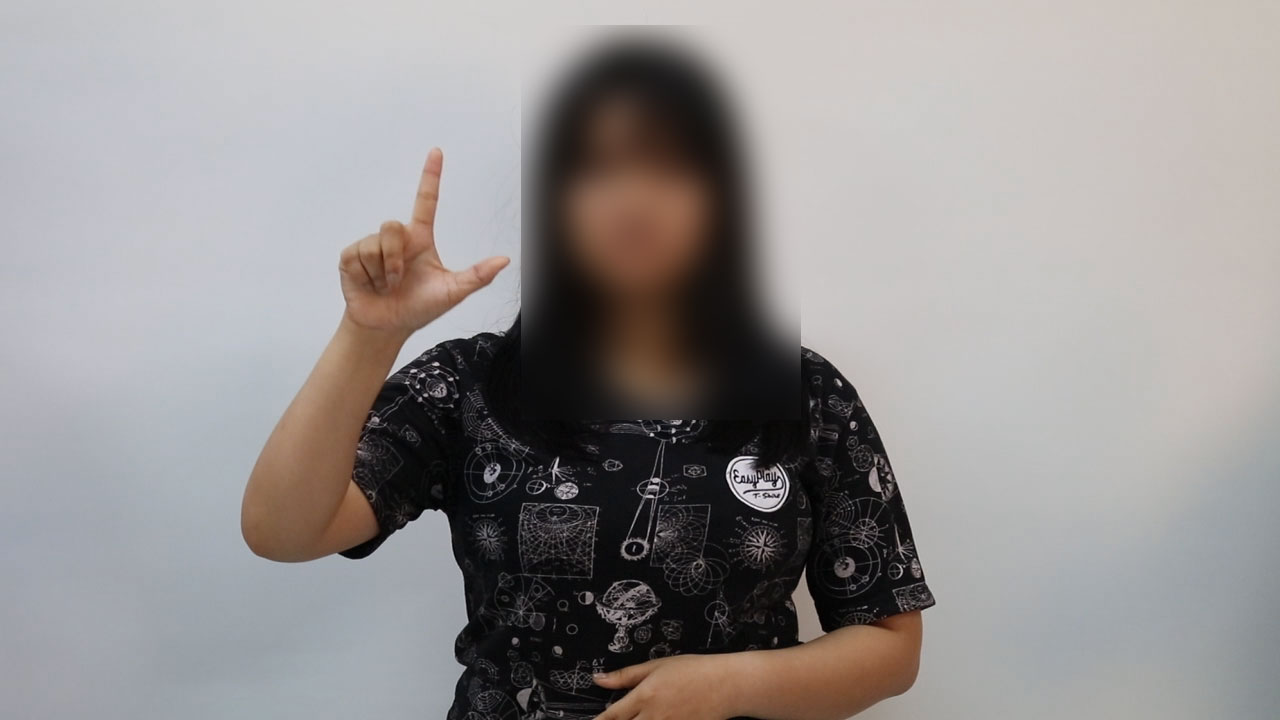lor: (328, 140, 521, 343)
